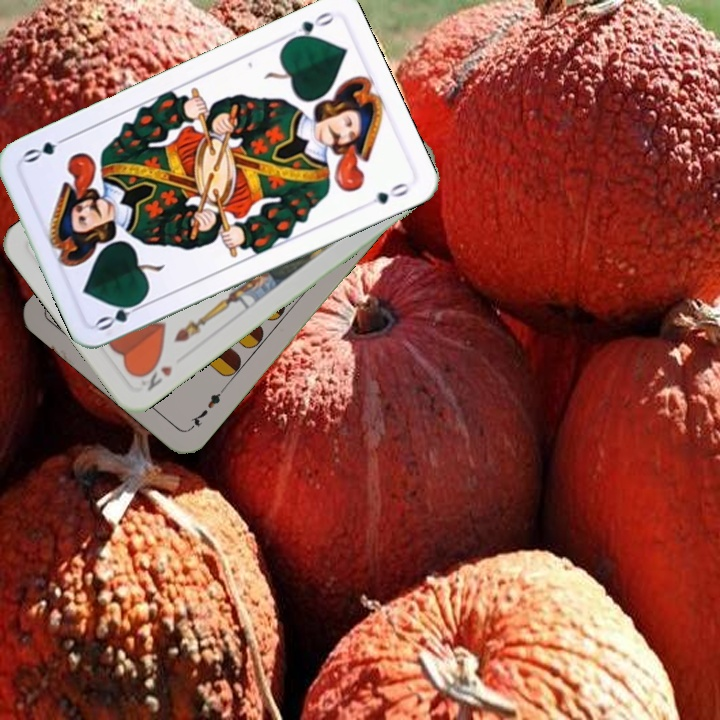E7: (185, 383, 228, 433)
GO: (92, 294, 149, 334), (280, 7, 337, 46)
HK: (134, 356, 176, 394)
